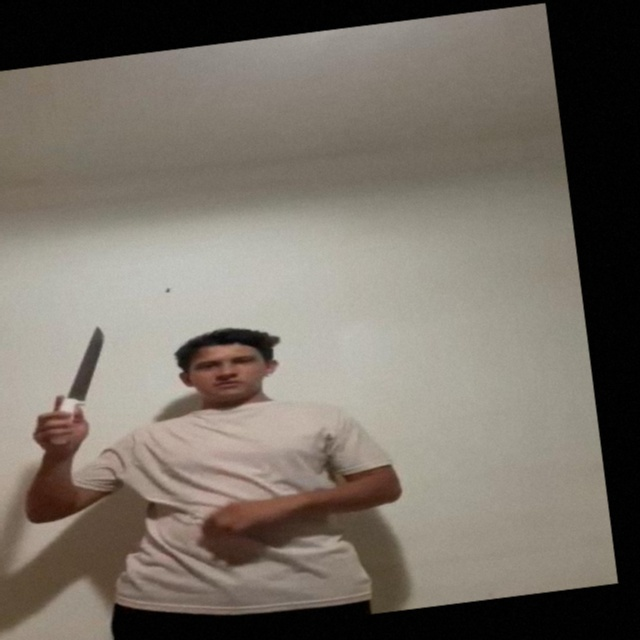Sharp-Object: (64, 324, 115, 400)
